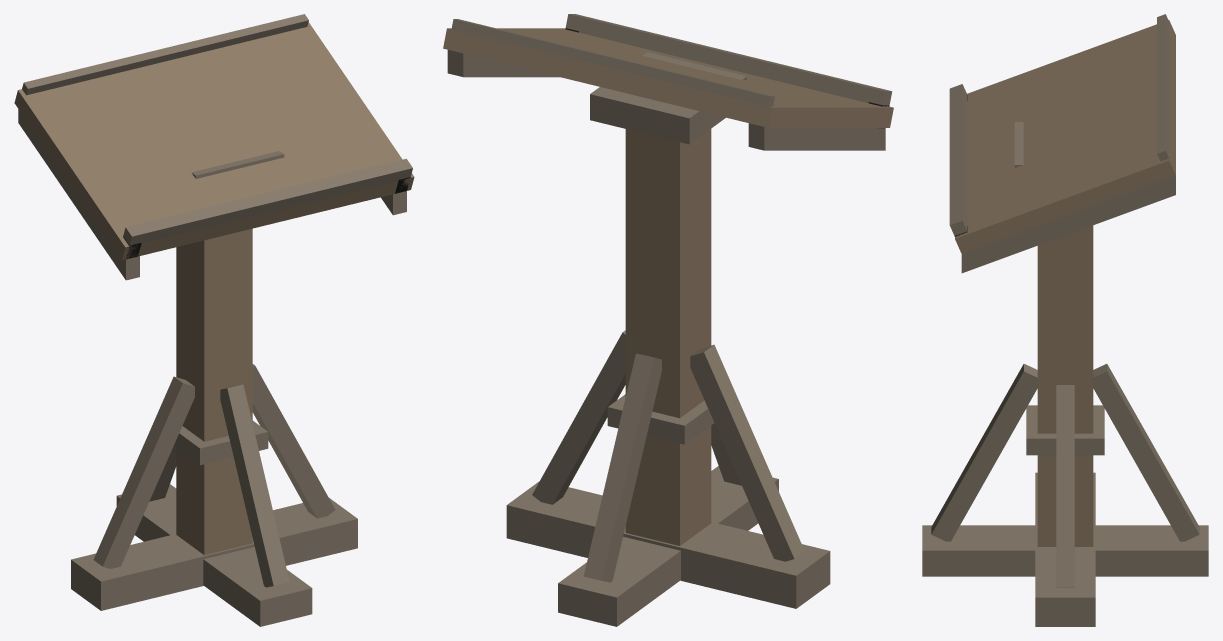
File: lesepult.glb
The picture shows the model from 3 angles, left to right: view 1: azimuth 30°, elevation 25°; view 2: azimuth 150°, elevation 25°; view 3: azimuth 270°, elevation 25°; orthographic projection. The views are drawn at different scales.
Parts seen in each view (by area): view 1: Lesepult; view 2: Lesepult; view 3: Lesepult.
Boxes of the visible parts, box(x1,y1,x2,y2) form: Lesepult: box(14, 14, 414, 626); Lesepult: box(443, 14, 893, 626); Lesepult: box(922, 14, 1208, 626).
Size of the model in its own units: 0.72 by 1.15 by 0.62.
